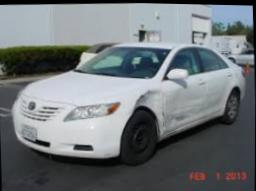Door: (162, 78, 209, 131)
Fender: (122, 88, 165, 116)
